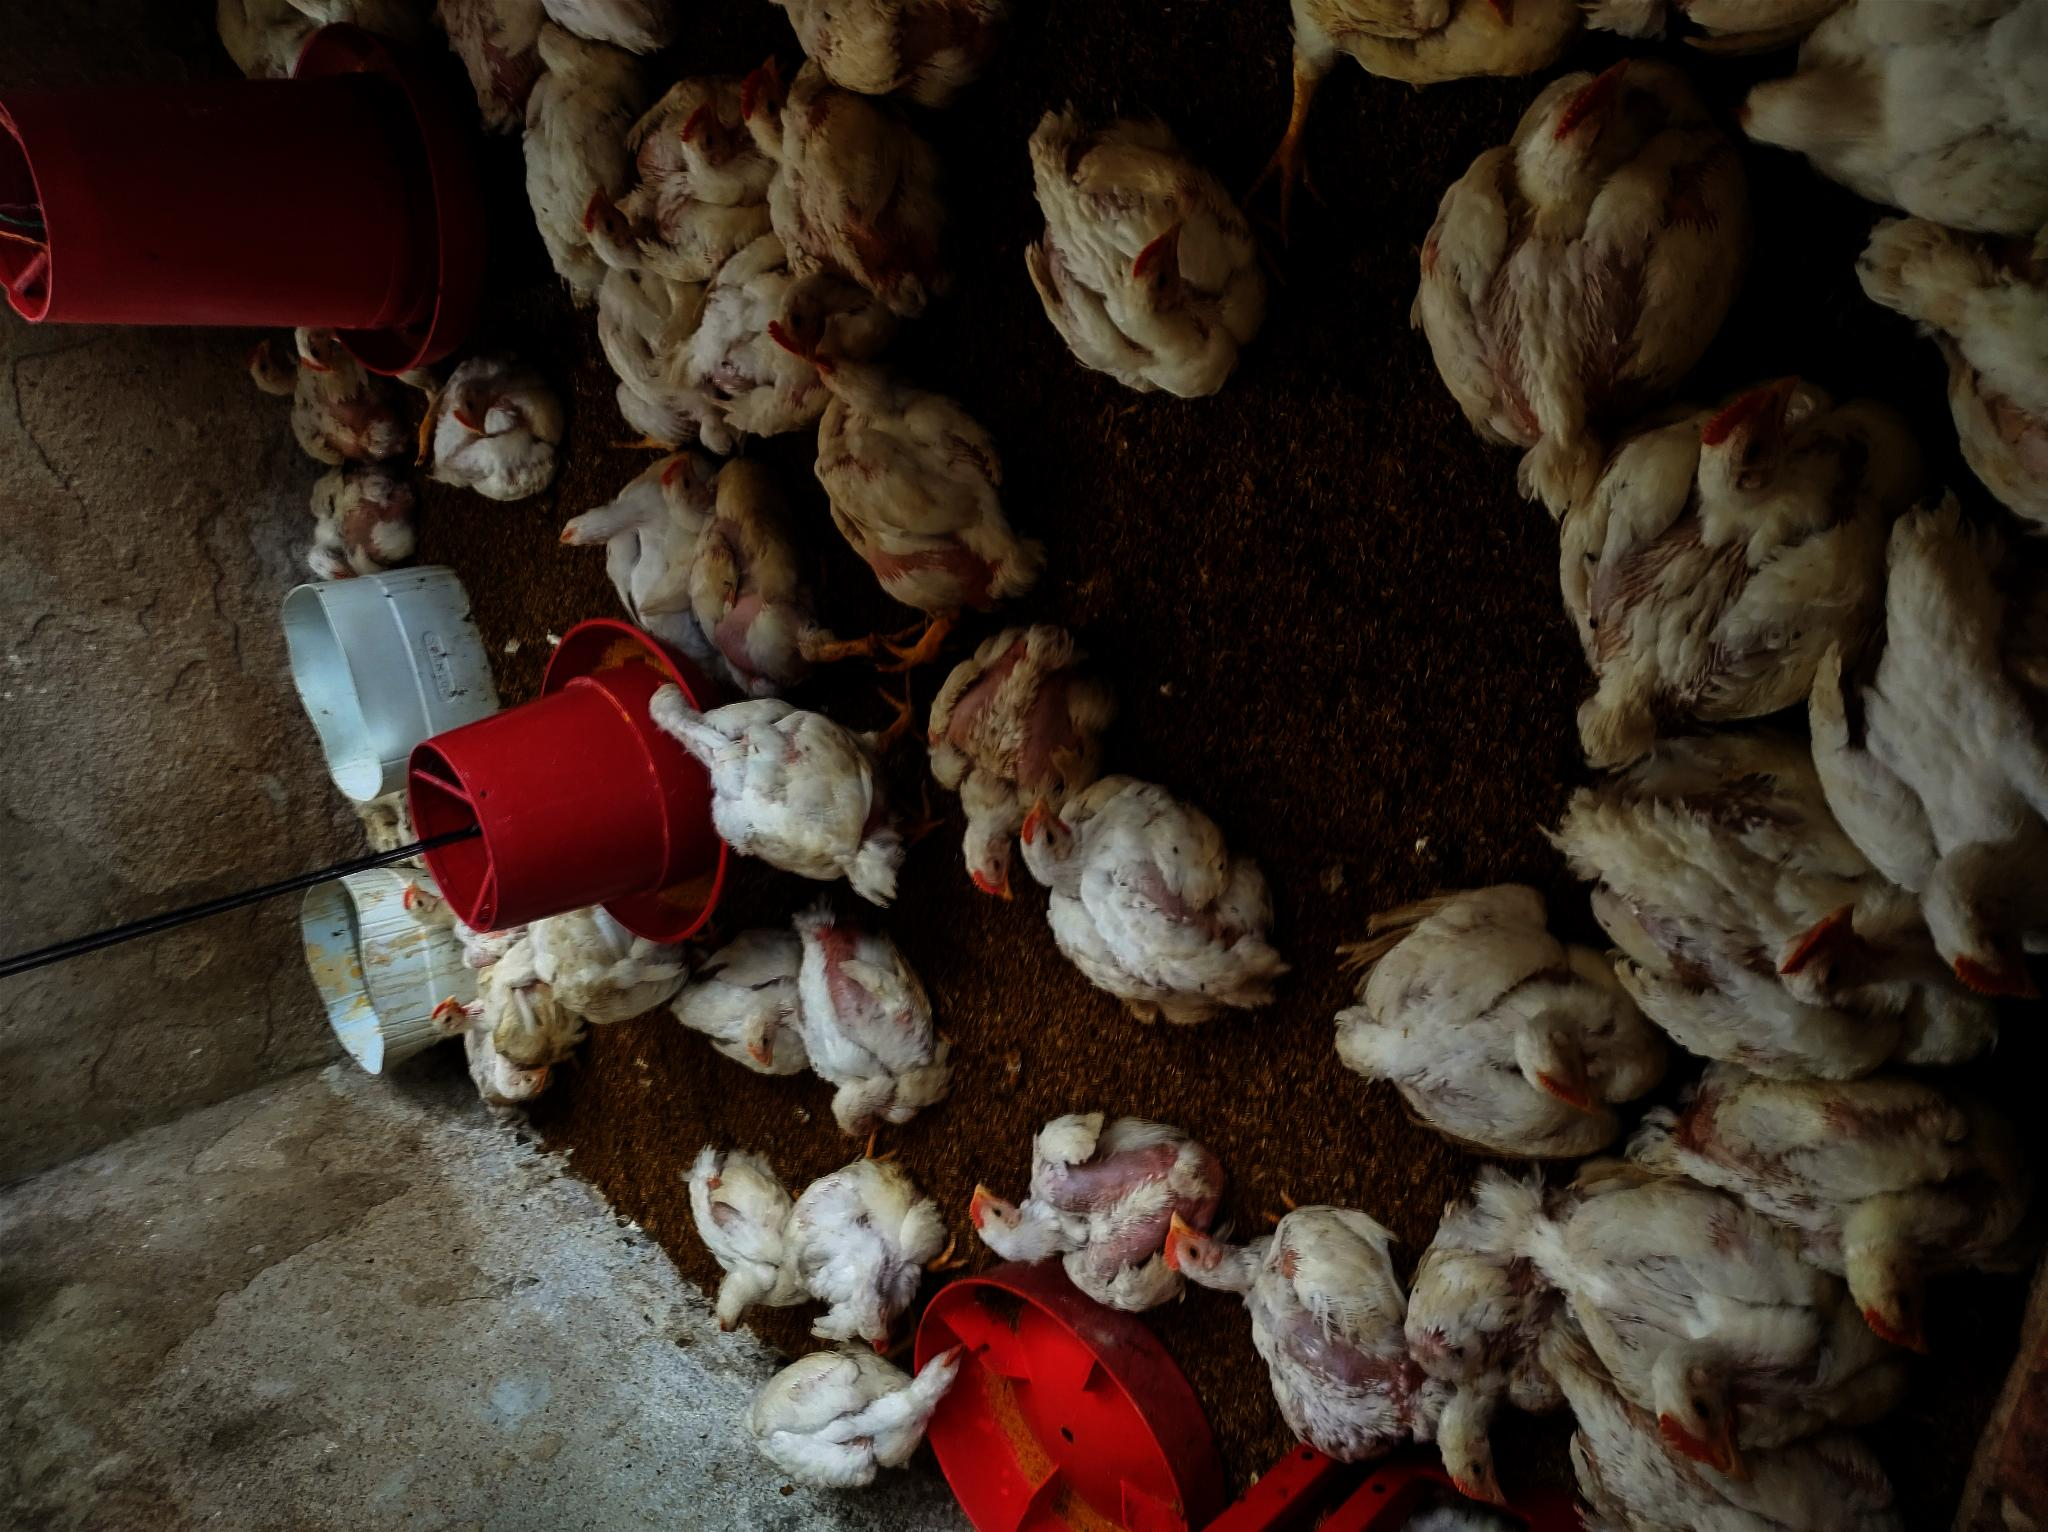Pollos: (1548, 360, 1905, 768), (1535, 1144, 1927, 1487), (1393, 48, 1718, 431), (1803, 504, 2048, 998), (1544, 785, 1953, 1078), (1639, 1056, 2008, 1353), (1322, 879, 1655, 1159), (767, 314, 1039, 603), (1157, 1191, 1446, 1455), (1012, 100, 1256, 397), (1731, 0, 2048, 229), (1018, 776, 1289, 1033), (640, 673, 919, 906), (1839, 208, 2048, 500), (927, 620, 1128, 906), (1417, 1160, 1573, 1508), (964, 1099, 1211, 1310), (738, 68, 952, 306), (566, 185, 756, 422), (732, 1337, 972, 1497), (674, 1143, 841, 1349), (796, 917, 956, 1131), (787, 1163, 962, 1355), (701, 243, 878, 426), (518, 37, 644, 291), (640, 100, 814, 248), (676, 943, 833, 1085), (420, 364, 571, 509), (524, 904, 703, 1027), (245, 330, 389, 452), (294, 465, 433, 571), (492, 925, 557, 1123), (428, 983, 513, 1106), (394, 880, 463, 953)
